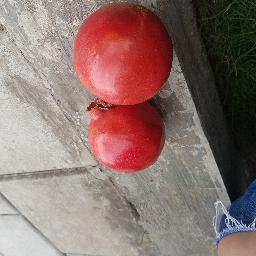Good_pomegranate: (73, 2, 180, 110), (82, 96, 170, 180)
